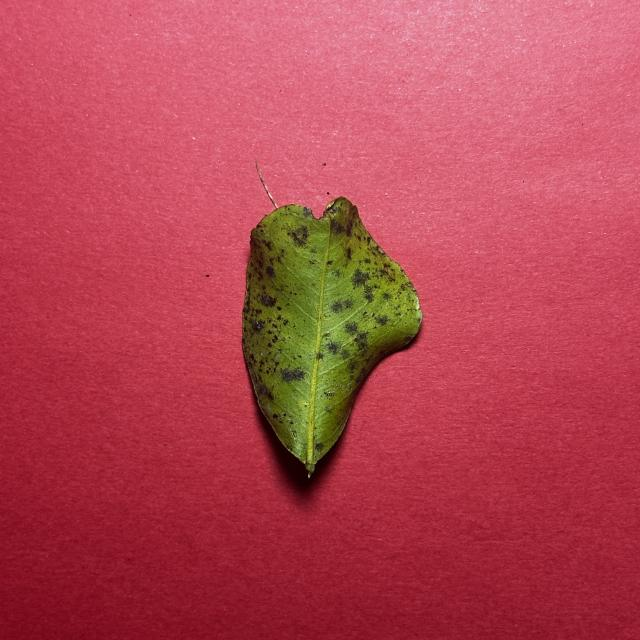sooty_mold: (242, 197, 422, 473)
